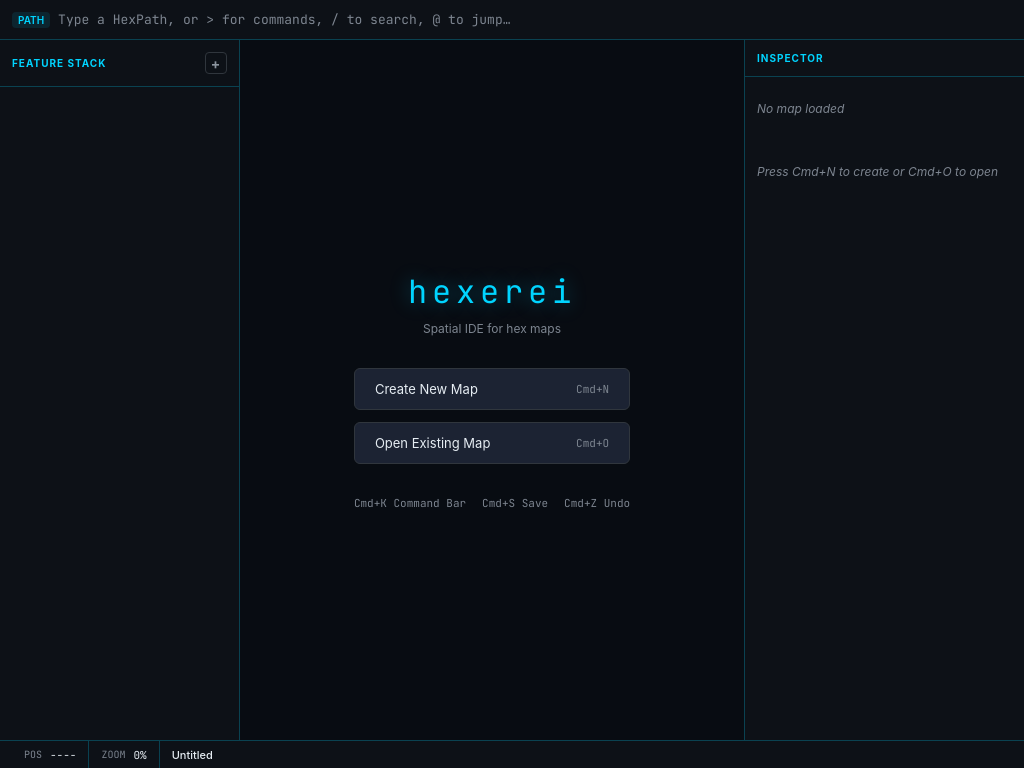
Test: canceling new map dialog returns to WelcomeScreen
Click the button "Create New Map Cmd+N" at coordinates (426, 389), box x1=354 y1=368 x2=630 y2=410
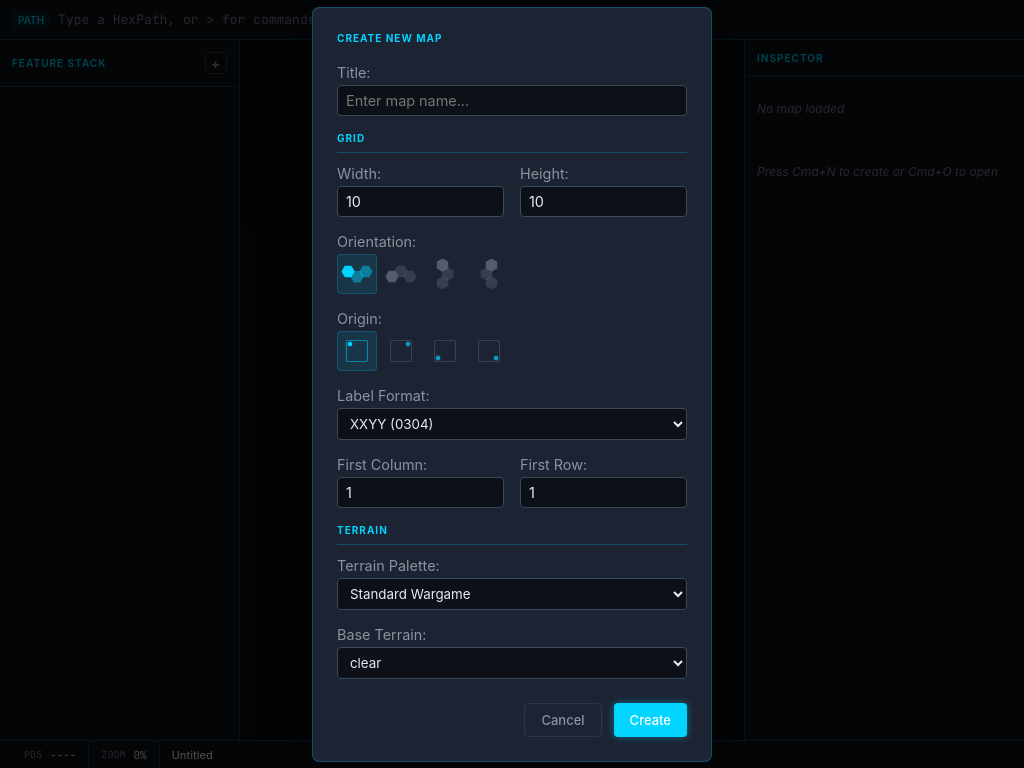
Click the button "Cancel" at coordinates (563, 720), box x1=524 y1=702 x2=602 y2=736
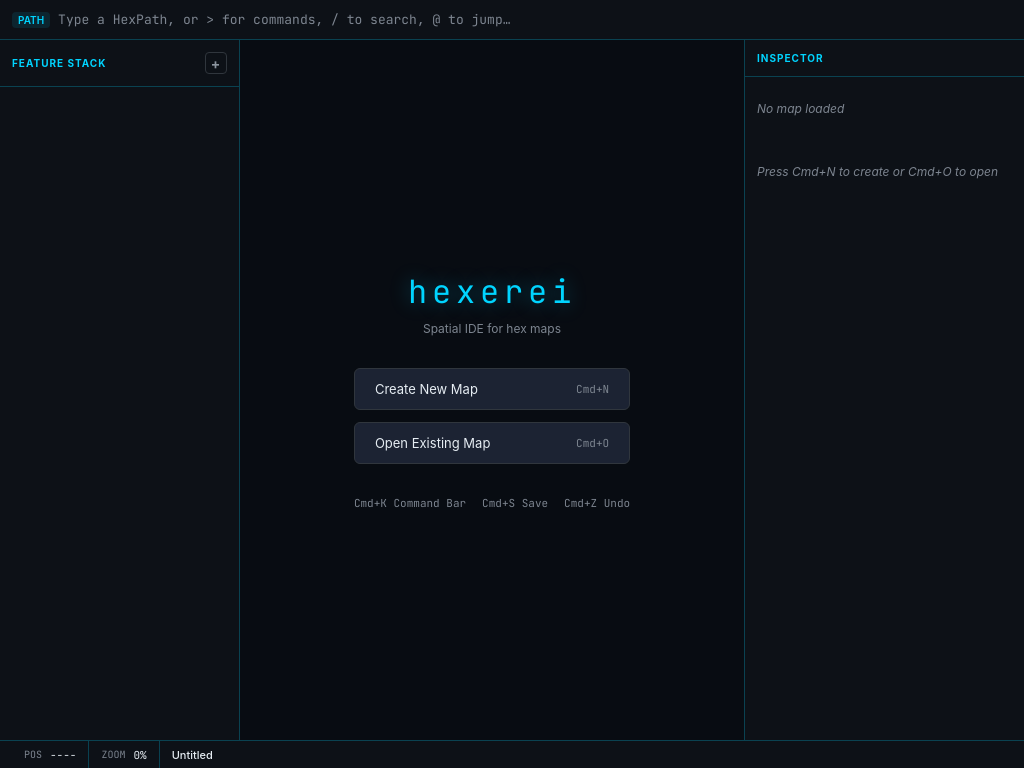
Expected: the button "Create New Map Cmd+N" is shown, x1=354 y1=368 x2=630 y2=410
Expected: the dialog is gone
